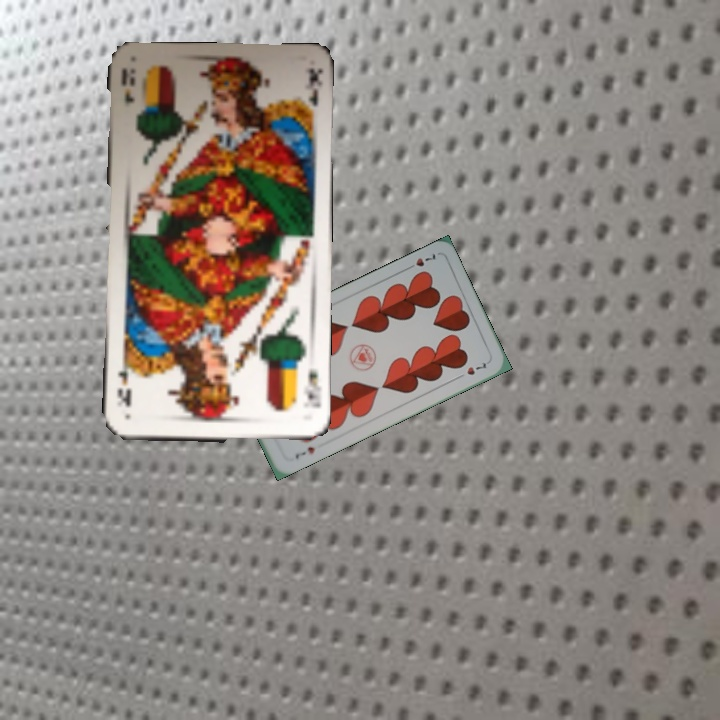EK: (299, 364, 322, 410), (117, 67, 138, 107)
H7: (401, 249, 438, 273), (291, 442, 317, 461)
